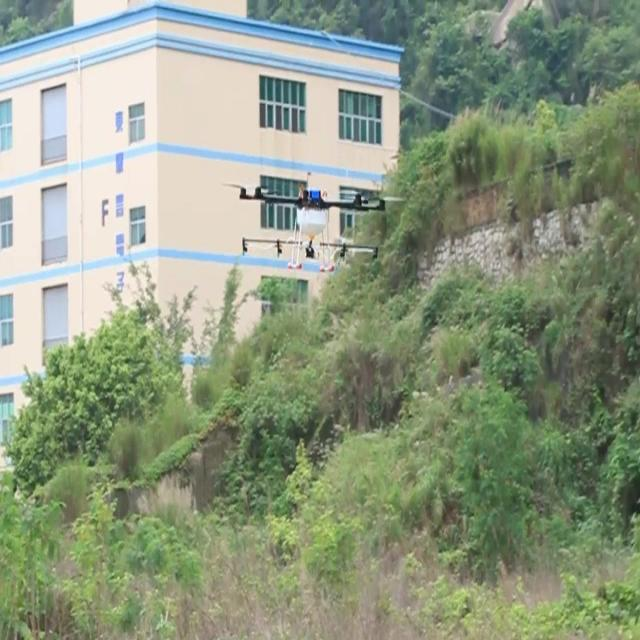UAV: (228, 184, 403, 271)
